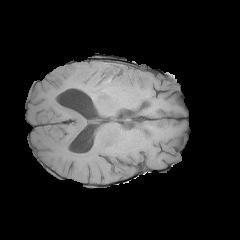glioma: (66, 62, 149, 99)
